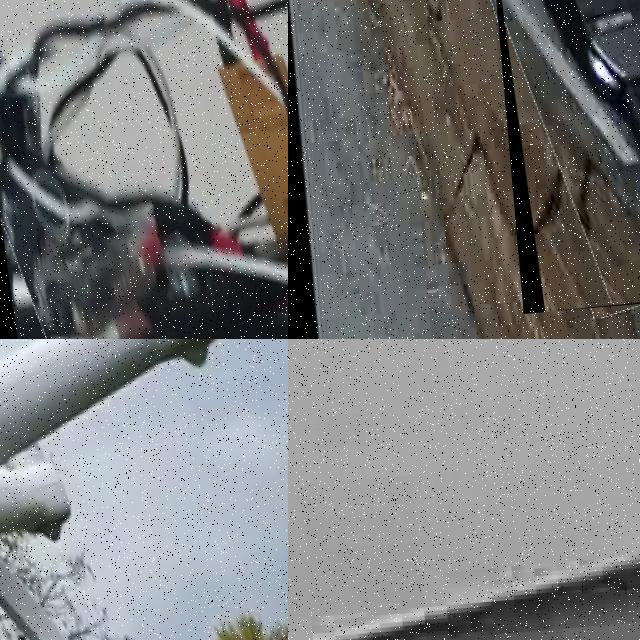drone: (0, 0, 288, 339), (0, 339, 288, 640), (487, 0, 640, 313)
